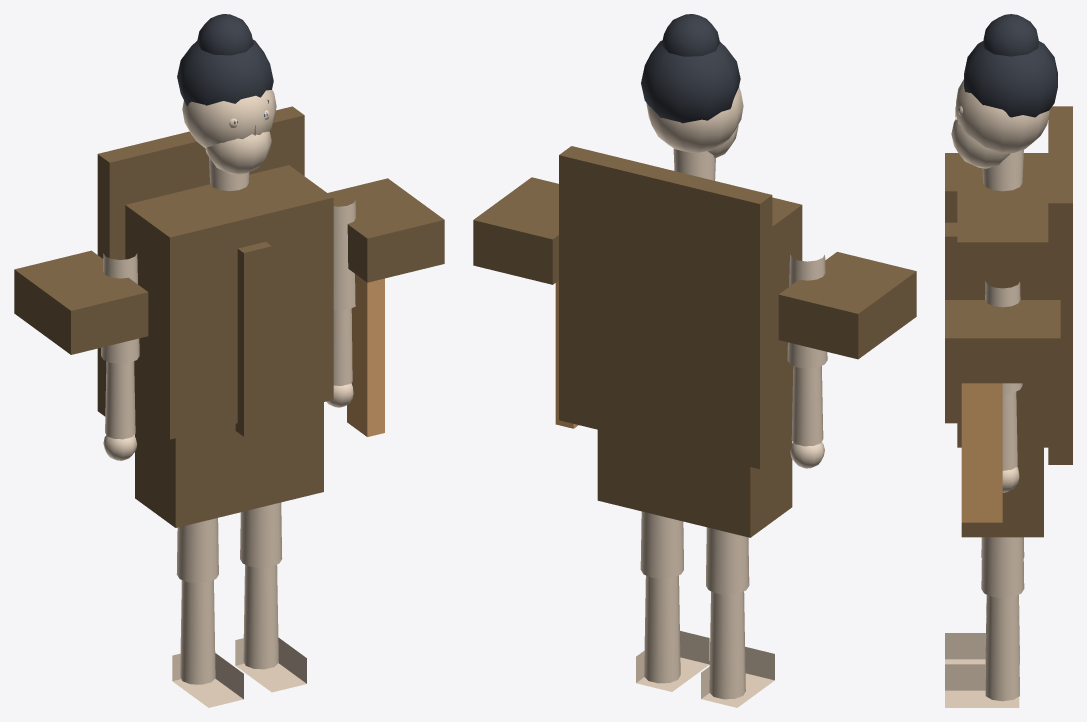
Rendered from body.glb.
The picture shows the model from 3 angles, left to right: view 1: azimuth 30°, elevation 25°; view 2: azimuth 150°, elevation 25°; view 3: azimuth 270°, elevation 25°; orthographic projection. The views are drawn at different scales.
Visible parts, largest first — view 1: Cloth, Skin, Hair, Metal; view 2: Cloth, Skin, Hair; view 3: Cloth, Skin, Hair, Metal.
Part boxes in pixels (x1,y1,x2,y2): Cloth: (14, 106, 444, 527); Skin: (101, 89, 355, 707); Hair: (177, 14, 273, 106); Metal: (347, 274, 384, 436); Cloth: (473, 146, 916, 537); Skin: (636, 87, 827, 707); Hair: (641, 14, 740, 123); Cloth: (945, 106, 1072, 537); Skin: (945, 79, 1049, 707); Hair: (964, 14, 1057, 117); Metal: (961, 383, 1002, 522).
Bounding box in the file's own units: 1.06 × 1.78 × 0.31.
